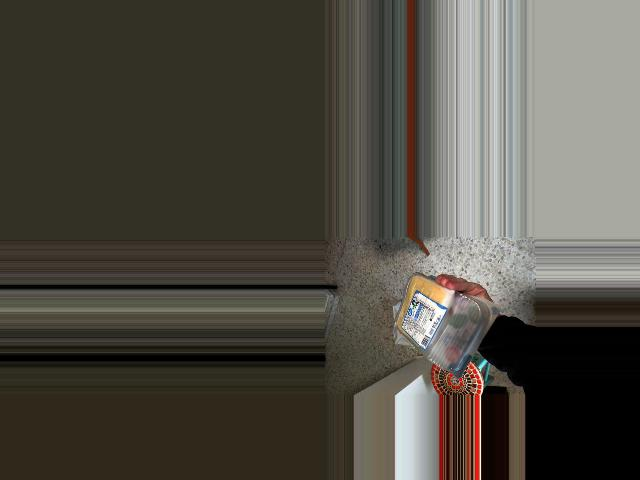cheese: (385, 286, 492, 379)
